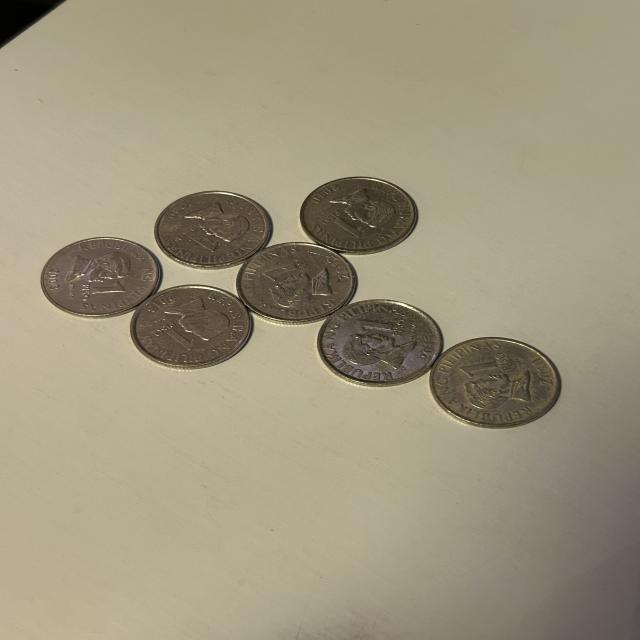1_Old_Front: (259, 252, 315, 288), (356, 312, 414, 342), (80, 278, 130, 312), (459, 350, 514, 380), (151, 322, 199, 356), (317, 209, 366, 241), (173, 228, 223, 259)
